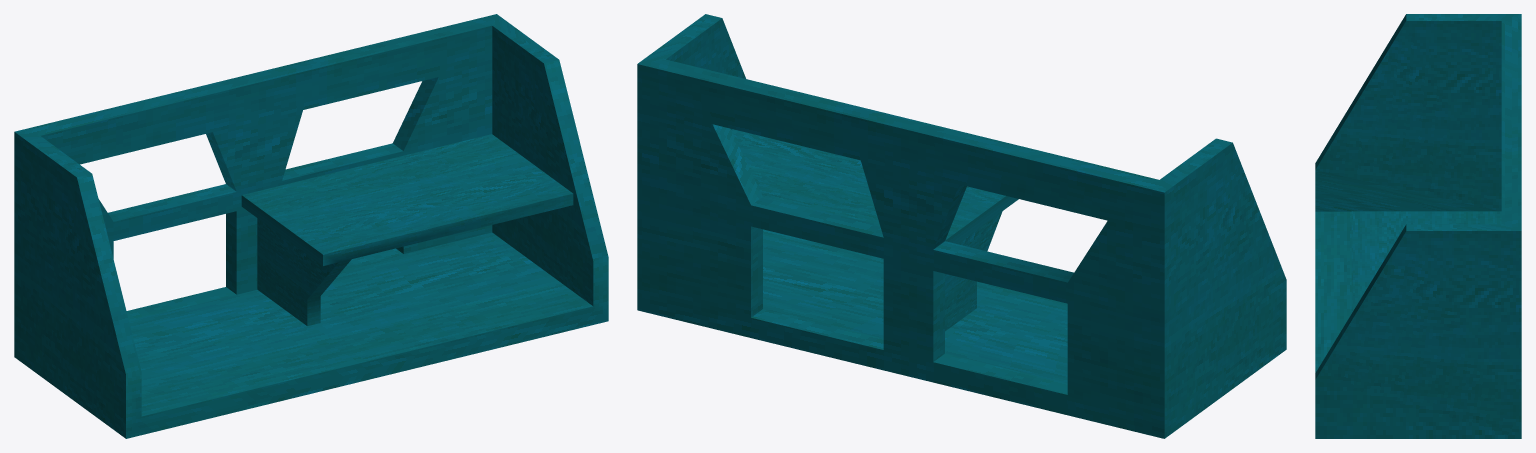
The picture shows the model from 3 angles, left to right: view 1: azimuth 30°, elevation 25°; view 2: azimuth 150°, elevation 25°; view 3: azimuth 270°, elevation 25°; orthographic projection. The views are drawn at different scales.
Visible parts, largest first — view 1: Joint_0_Object_1, Joint_0_Object_0; view 2: Joint_0_Object_1, Joint_0_Object_0; view 3: Joint_0_Object_1, Joint_0_Object_0.
Boxes of the visible parts, x1,y1,x2,y2 form: Joint_0_Object_1: (14,14,608,438); Joint_0_Object_0: (241,134,573,326); Joint_0_Object_1: (637,14,1286,438); Joint_0_Object_0: (731,129,1018,331); Joint_0_Object_1: (1315,14,1521,438); Joint_0_Object_0: (1351,211,1501,313).
Bounding box in the file's own units: 1510 × 674 × 606.
2 materials, 2 textured.
